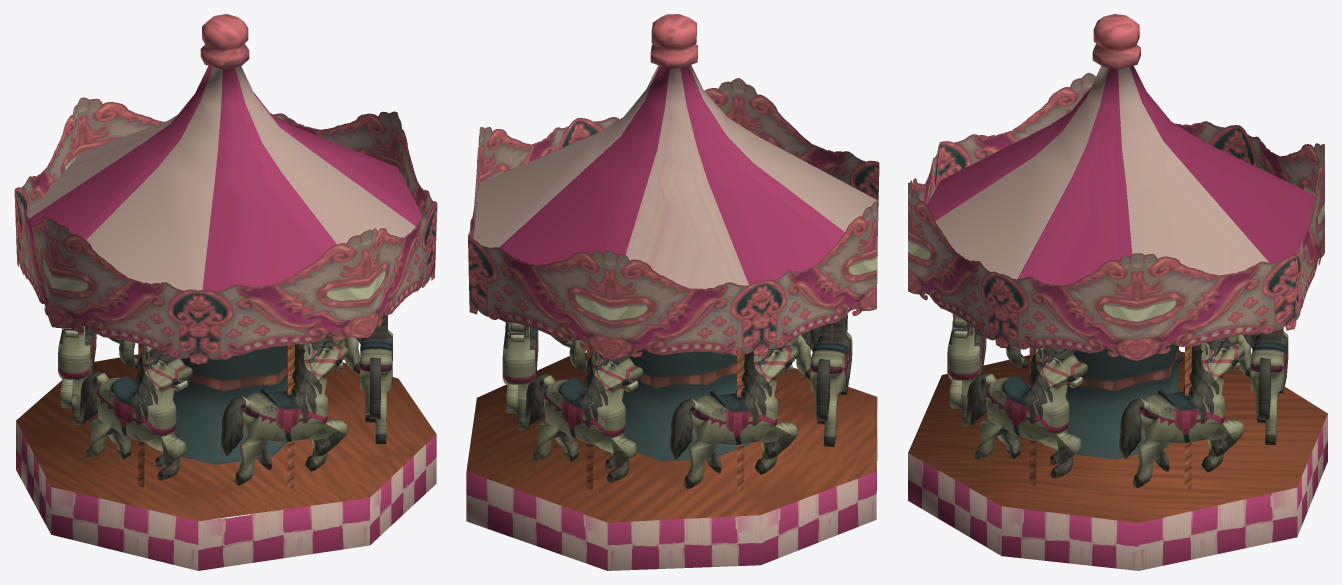
The model's file is carousel.fbx.
3 views of the same model, side by side, from view 1: azimuth 30°, elevation 25°; view 2: azimuth 150°, elevation 25°; view 3: azimuth 270°, elevation 25° (orthographic).
Parts seen in each view (by area): view 1: carousel, carousel border, horses, poles; view 2: carousel, carousel border, horses, poles; view 3: carousel, carousel border, horses, poles.
Part boxes in pixels (x1,y1,x2,y2): carousel: (16,14,436,570); carousel border: (14,97,437,364); horses: (58,315,392,485); poles: (76,343,294,488); carousel: (466,14,877,570); carousel border: (468,78,879,359); horses: (502,314,852,489); poles: (520,323,832,490); carousel: (908,14,1327,570); carousel border: (908,73,1324,360); horses: (947,313,1288,487); poles: (965,333,1270,489).
Size of the model in its own units: 492 by 580 by 480.
